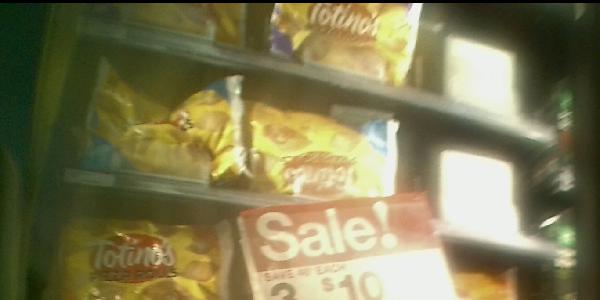icecream: (86, 65, 249, 187), (249, 91, 393, 213)
